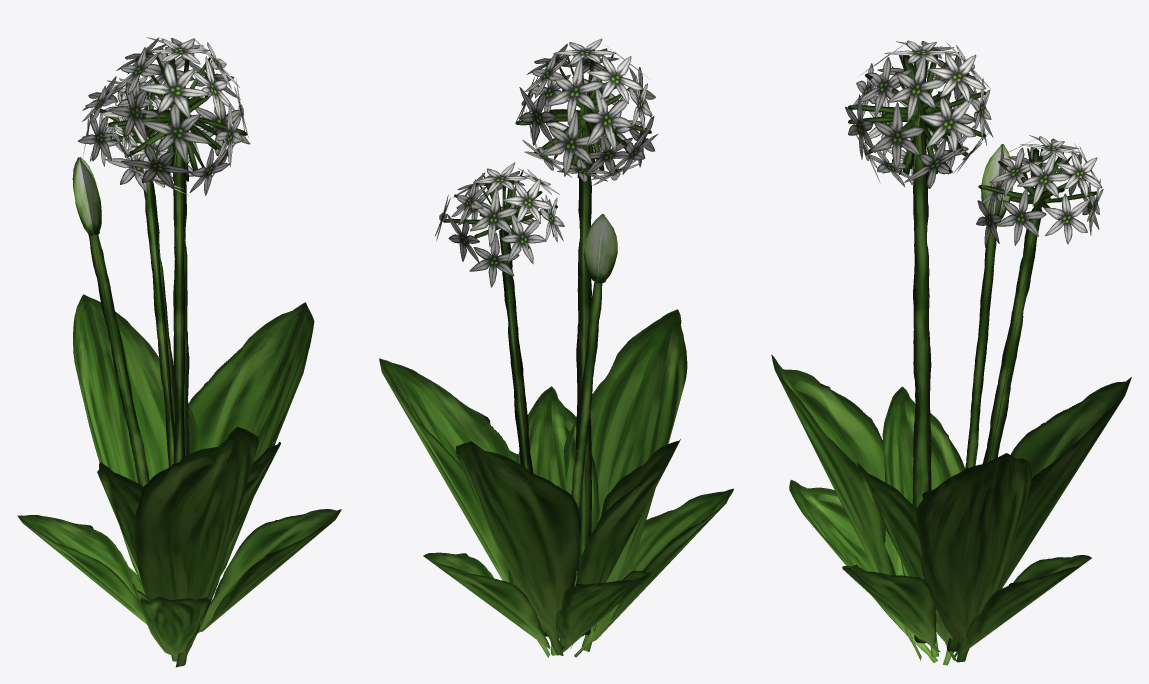
Rendered from garlic model.fbx.
The picture shows the model from 3 angles, left to right: view 1: azimuth 30°, elevation 25°; view 2: azimuth 150°, elevation 25°; view 3: azimuth 270°, elevation 25°; orthographic projection. The views are drawn at different scales.
Parts seen in each view (by area): view 1: Object_2.001; view 2: Object_2.001; view 3: Object_2.001.
Part boxes in pixels (x1,y1,x2,y2): Object_2.001: (17, 37, 341, 667); Object_2.001: (379, 38, 733, 657); Object_2.001: (771, 40, 1131, 665).
Bounding box in the file's own units: 510 × 1045 × 560.
1 material, 1 textured.
